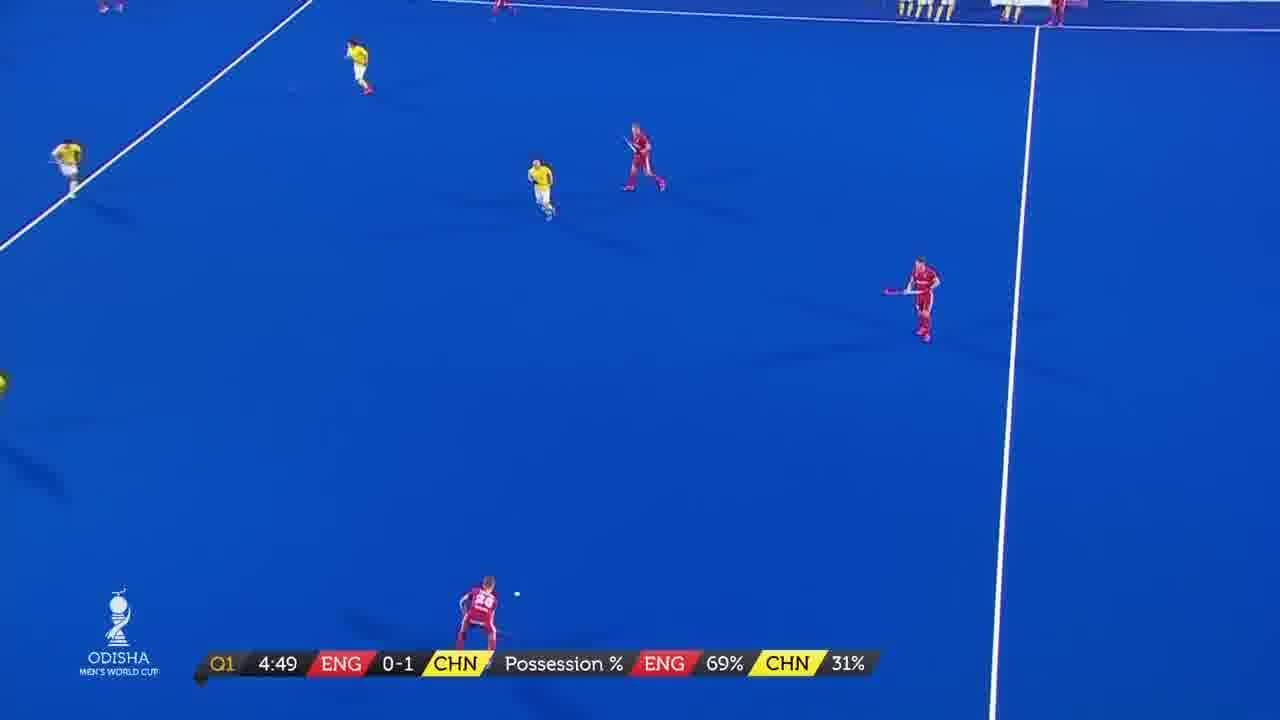ball: (510, 588, 526, 600)
